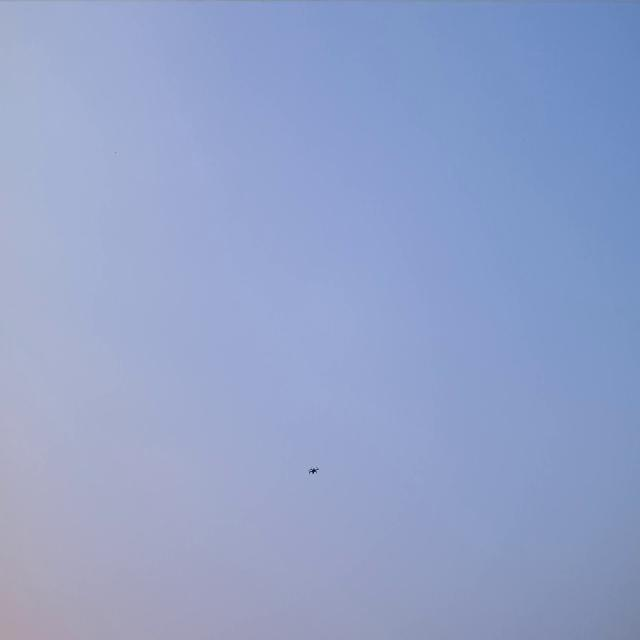UAV: (306, 464, 320, 477)
